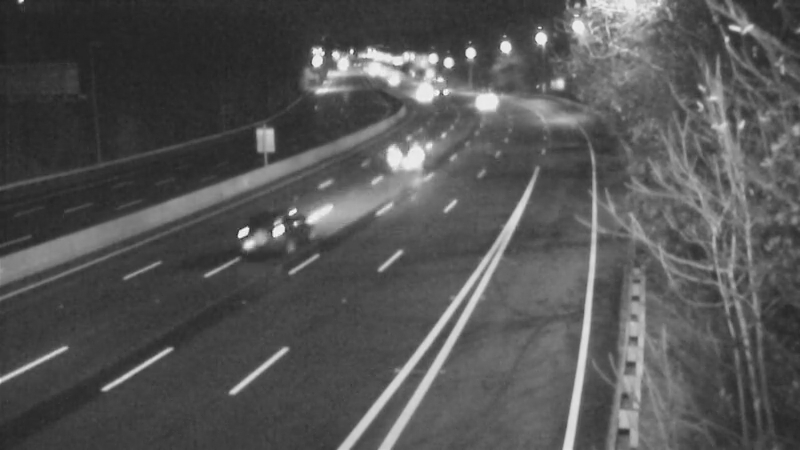vehicle: (366, 112, 446, 192), (244, 191, 324, 271), (363, 53, 413, 103), (411, 64, 461, 114), (394, 70, 444, 120), (460, 71, 510, 121)
